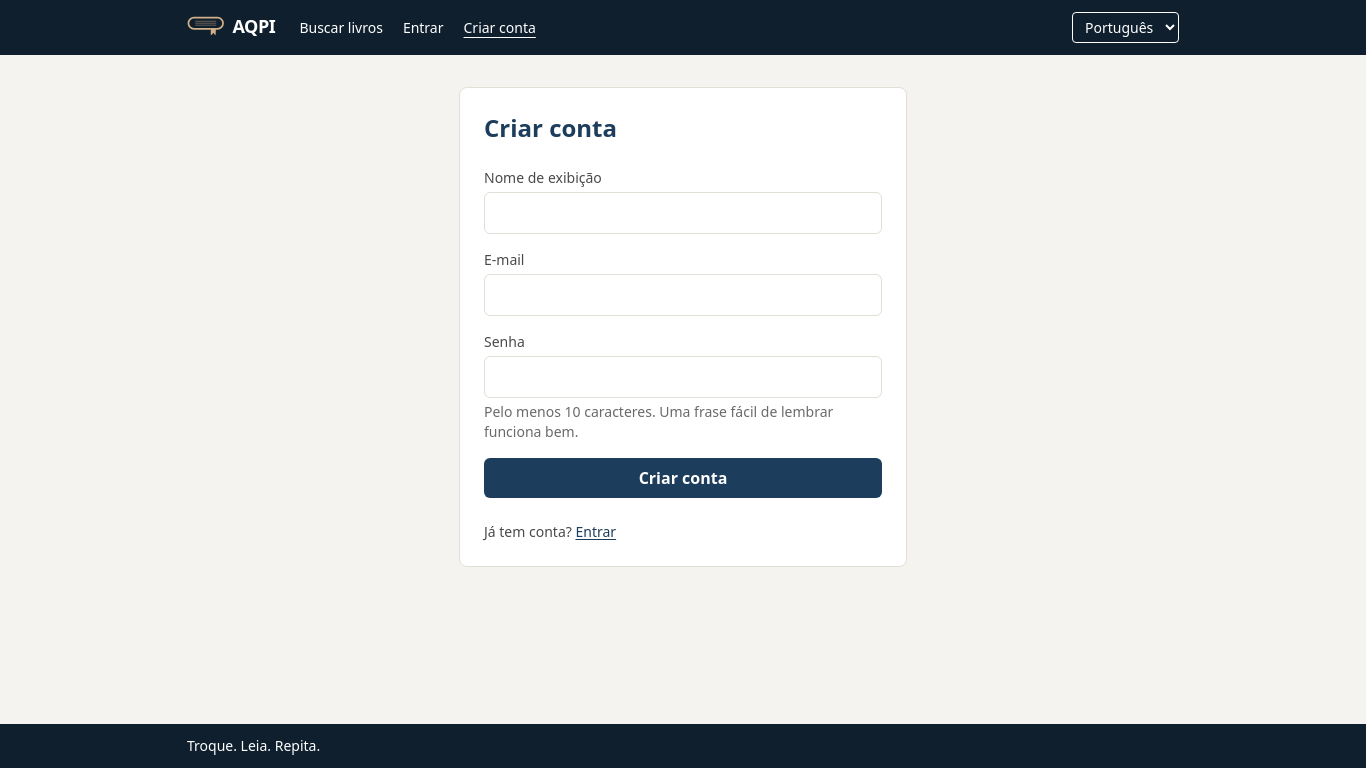
Test: registration › switching the language translates the page and sets <html lang>
Step 1. Select "English" in the dropdown named "Idioma" → point(1126, 28), box [1072,12,1179,43]
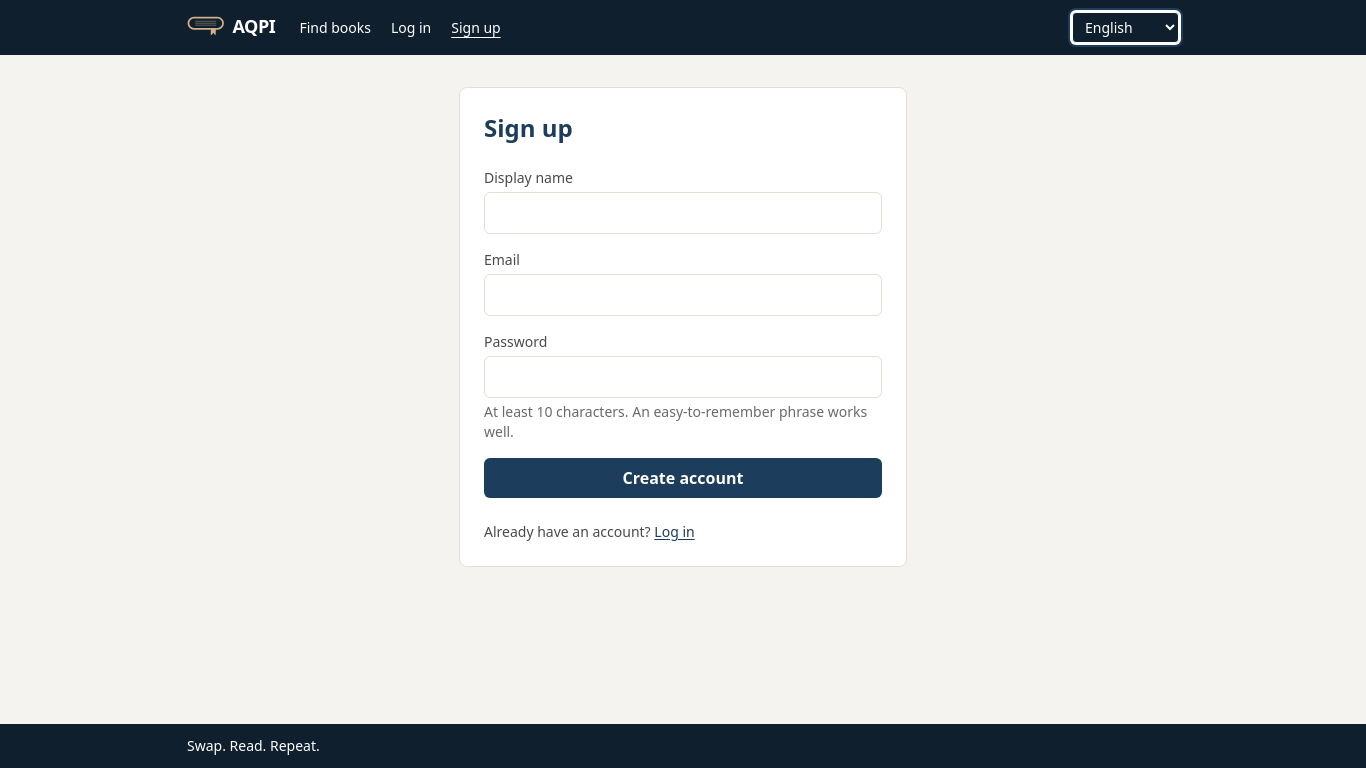
Now the heading "Sign up" is shown, box [484,111,573,144]
